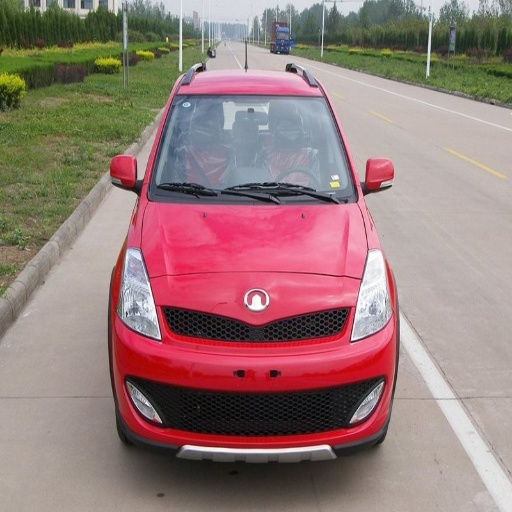front_bumper: (114, 276, 393, 459)
front_right_light: (114, 250, 162, 339)
hood: (137, 199, 368, 277), (260, 283, 356, 319)
